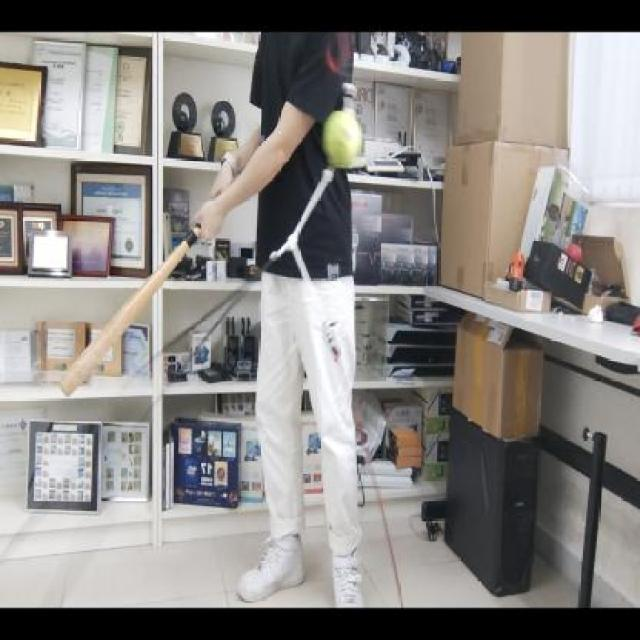baseball: (322, 107, 362, 175)
